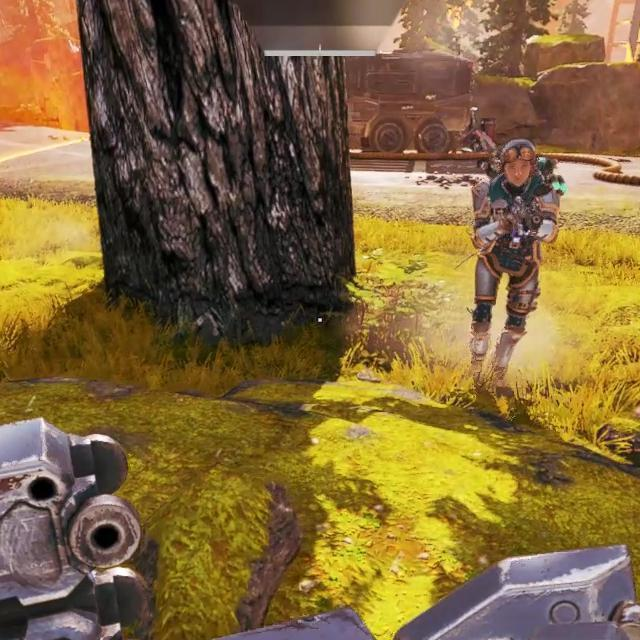avatar: (467, 137, 567, 385)
